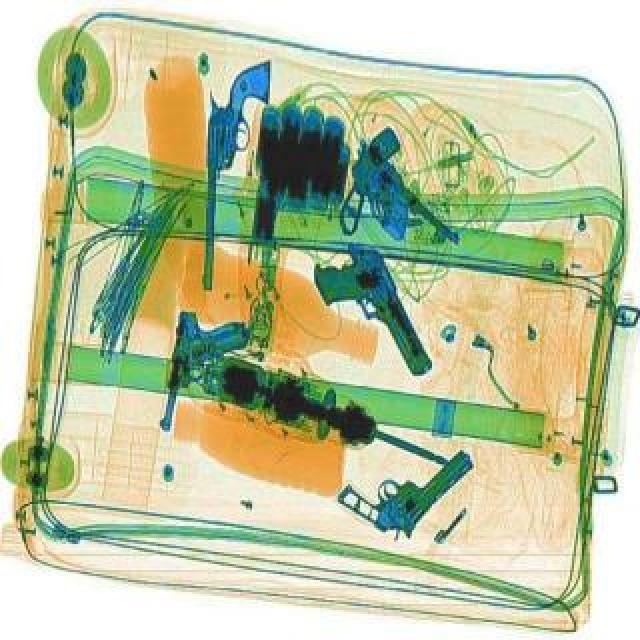gun: (312, 148, 472, 288), (310, 238, 440, 392), (336, 410, 480, 546), (198, 54, 274, 292), (158, 308, 254, 436)
